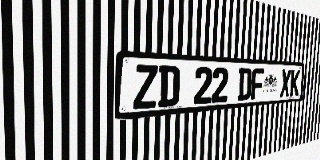2: (194, 66, 213, 104), (212, 67, 229, 103)
D: (158, 65, 180, 107), (237, 68, 252, 101)
F: (251, 68, 264, 100)
K: (290, 69, 300, 96)
X: (280, 69, 291, 97)
Z: (133, 64, 158, 110)
